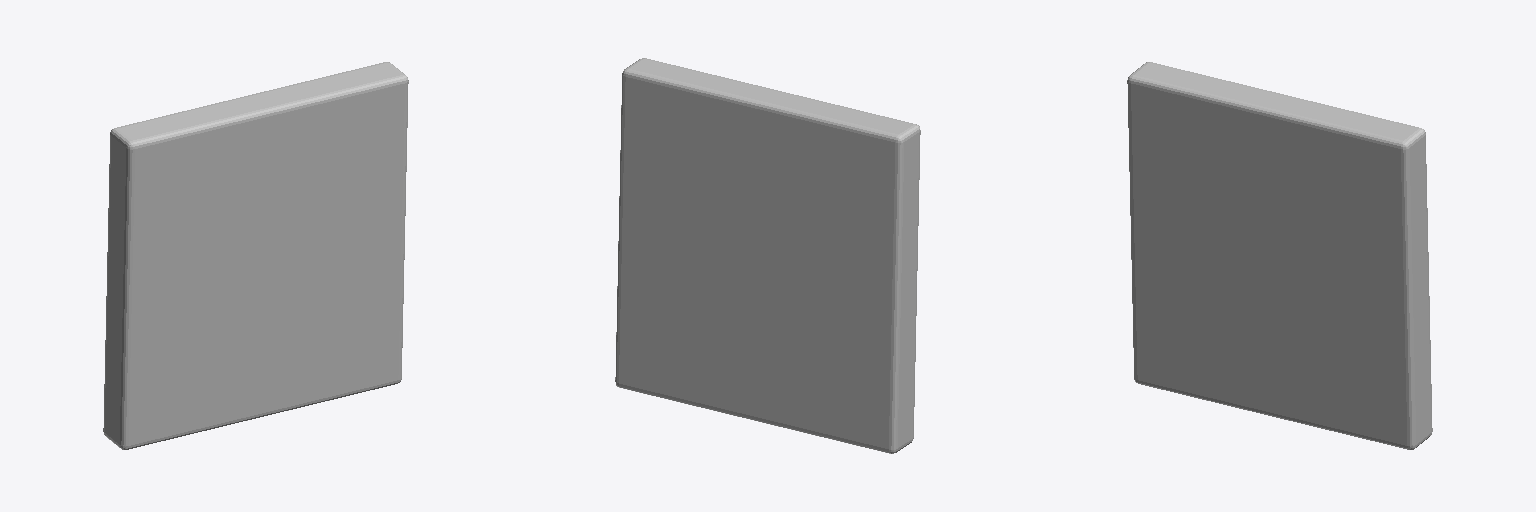
File: keyboard_red_buttons.obj
3 renders of one model, left to right at view 1: azimuth 30°, elevation 25°; view 2: azimuth 150°, elevation 25°; view 3: azimuth 330°, elevation 25°, orthographic.
Visible parts, largest first — view 1: red; view 2: red; view 3: red.
Boxes of the visible parts, x1,y1,x2,y2 form: red: [103, 62, 408, 449]; red: [615, 58, 920, 453]; red: [1127, 62, 1432, 449].
Bounding box in the file's own units: 15 × 16.04 × 2.62.